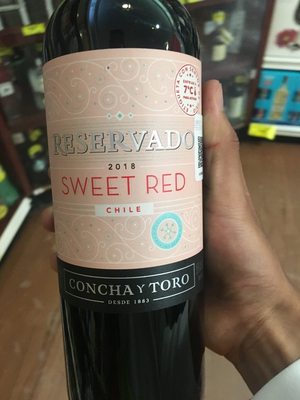reservado sweet red: (32, 4, 218, 396)
